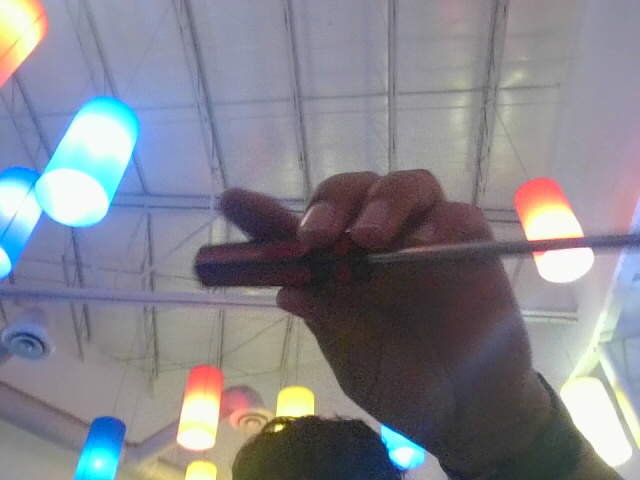destornillador: (197, 218, 640, 287)
